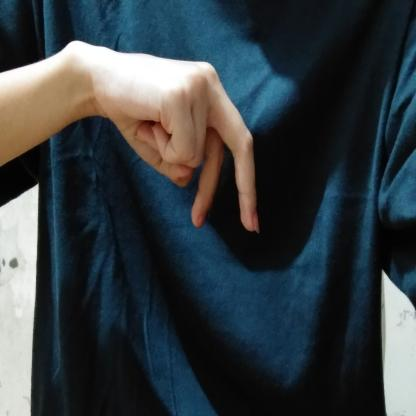run: (70, 35, 272, 238)
